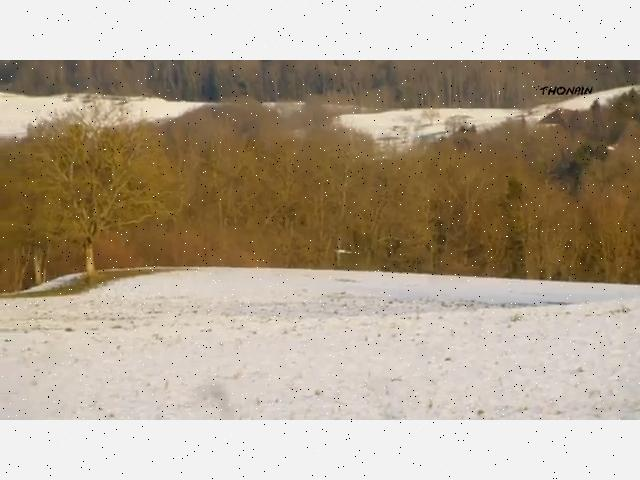Anti-Drone: (330, 244, 356, 260)
